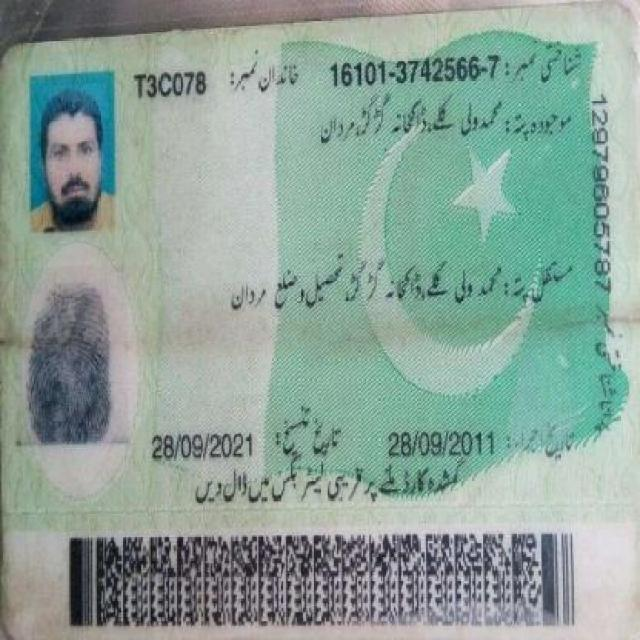Back: (4, 20, 624, 631)
